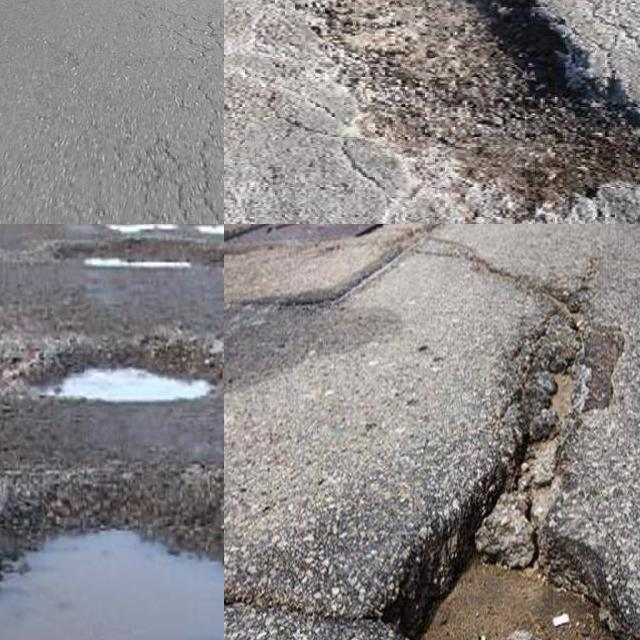Lubang: (398, 309, 635, 640), (321, 0, 640, 224), (0, 489, 224, 640), (31, 344, 224, 402)
